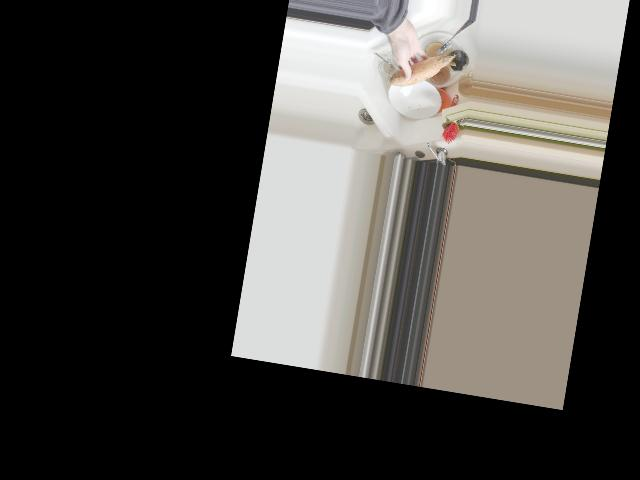sweet_potato: (387, 43, 454, 96)
